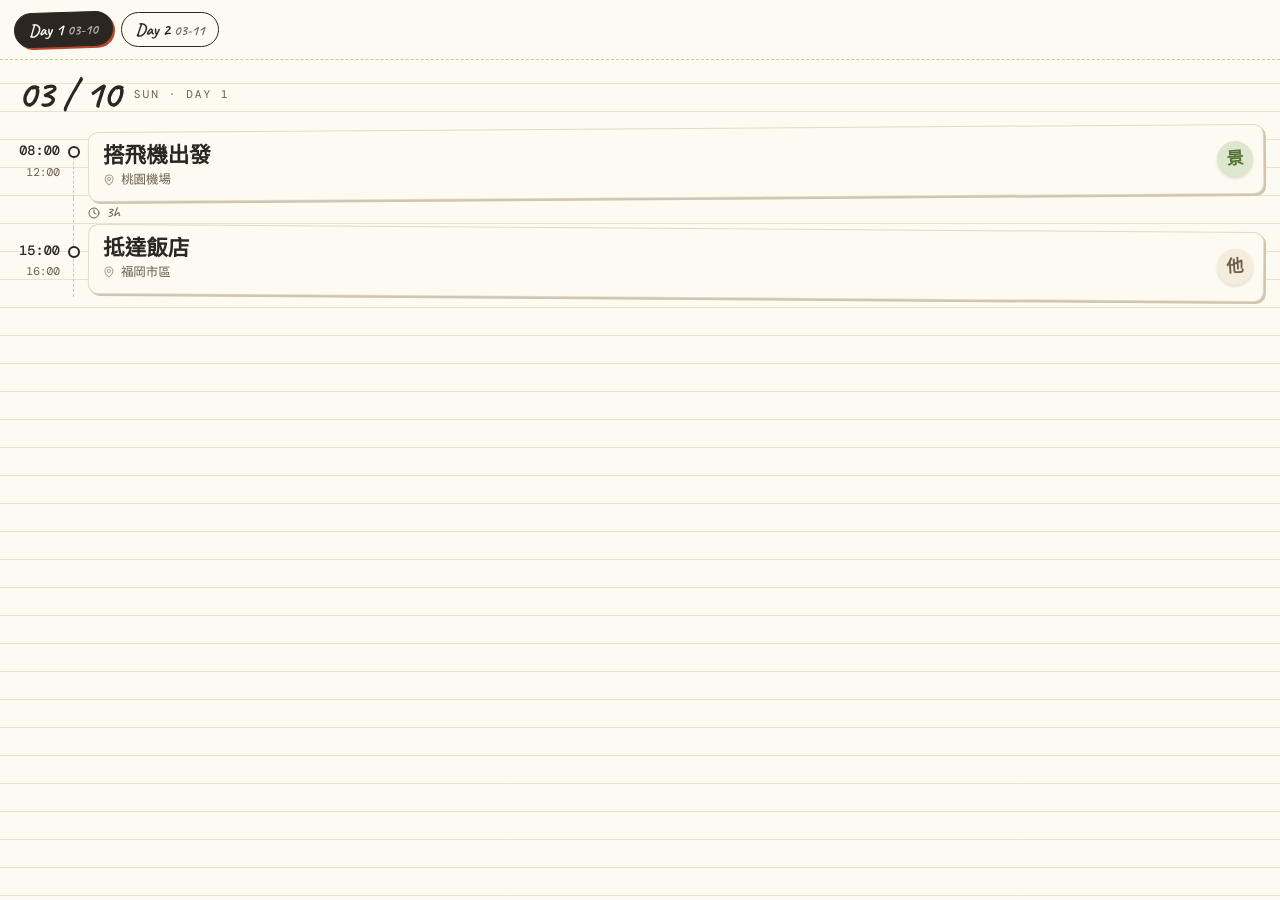
Test: Schedule component › 點擊 Day 2 切換到第二天，顯示 Day 2 日期並隱藏 Day 1 行程
Click the text "Day 2". click: (149, 30)
box: [136,19,170,40]
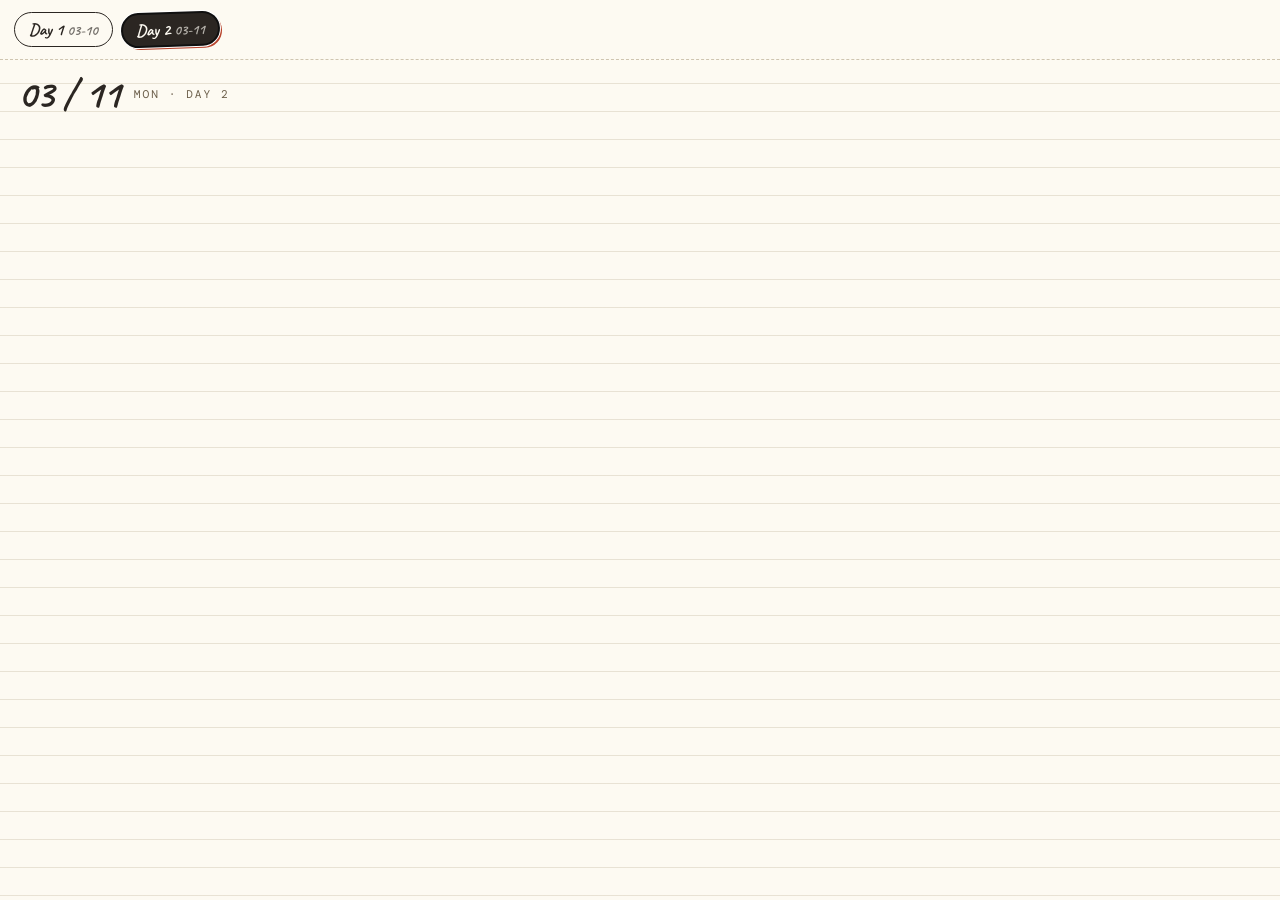
Expected: the text "03 / 11" is shown, [18,74,120,114]
Expected: the text "搭飛機出發" is gone
